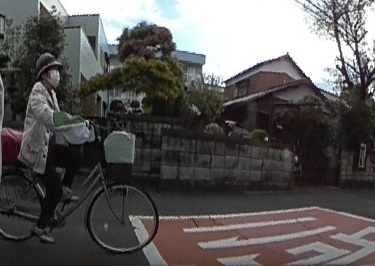person: (28, 52, 83, 237)
